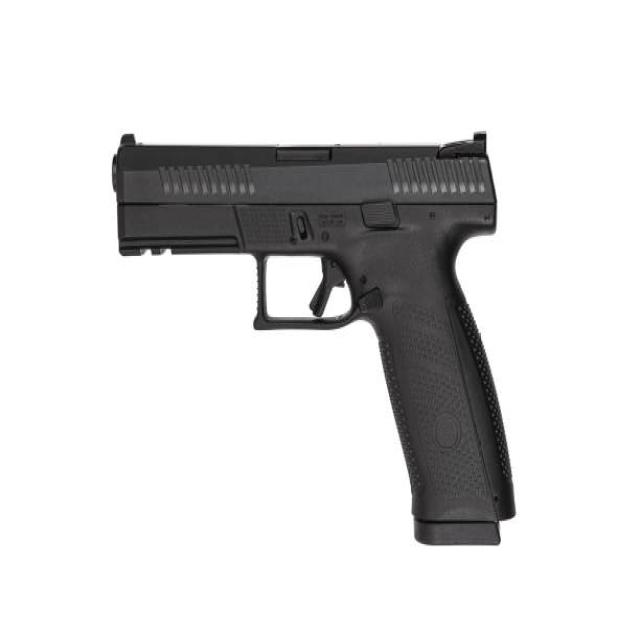pistol: (106, 116, 523, 558)
